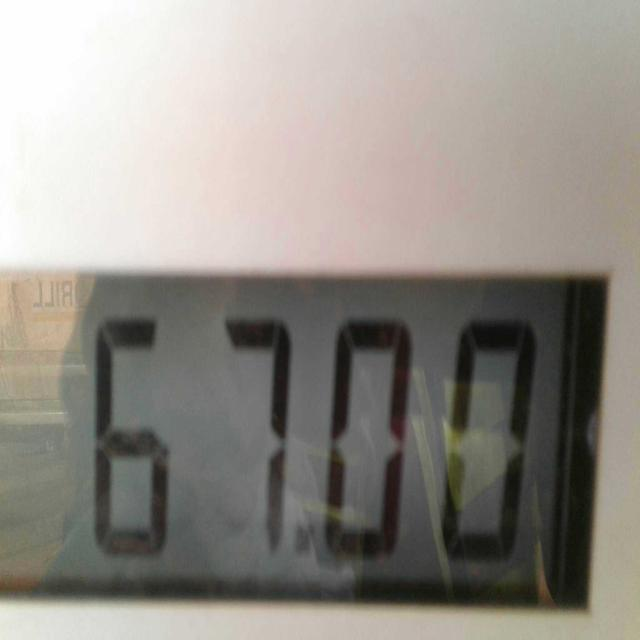.: (296, 522, 310, 554)
0: (328, 314, 411, 558), (442, 318, 528, 549)
6: (95, 322, 170, 549)
7: (225, 315, 288, 550)
